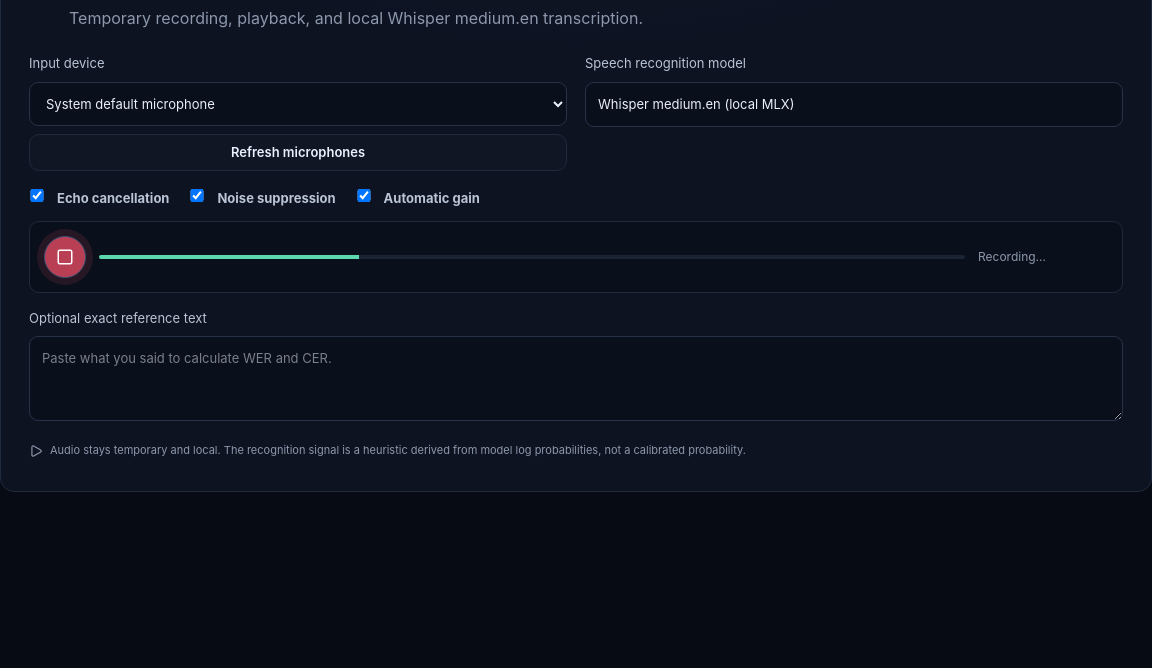
Test: MicrophoneDiagnostics › keeps a completed recording available for playback and model comparison
The width and height of the screenshot is (1152, 668).
Click the button named "Stop diagnostic recording" at (65, 256), box [44,236,86,278]
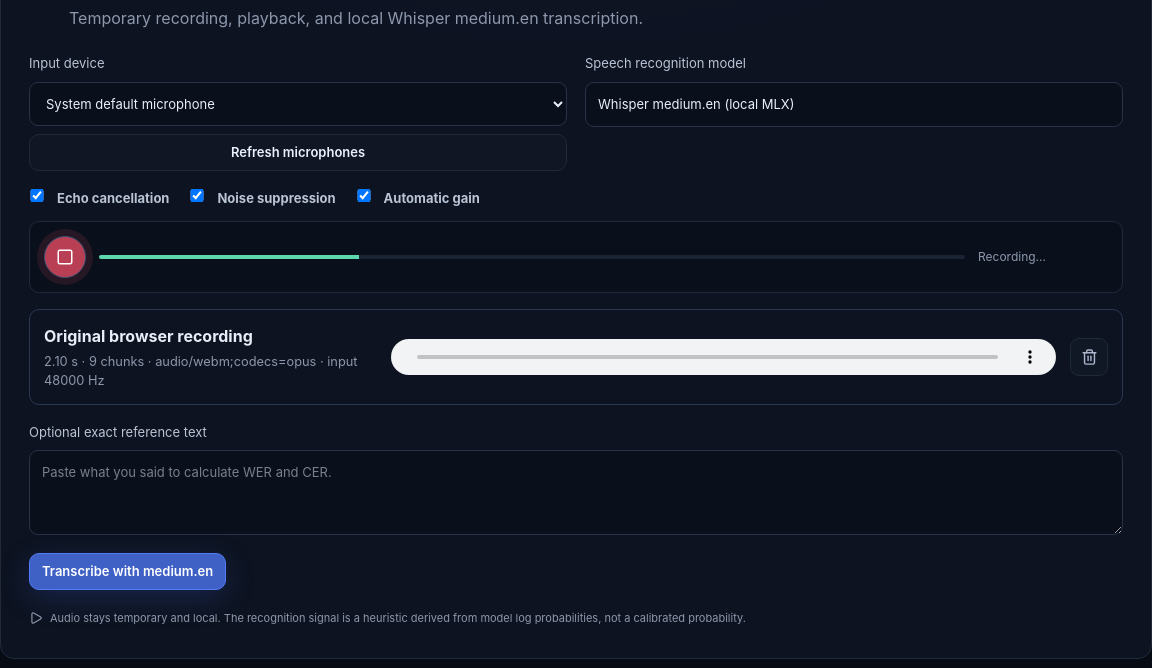
Expected: the element named "Playback original recording" is shown, [391,339,1056,375]
Expected: the text "2.10 s · 9 chunks · audio/webm;codecs=opus · input 48000 Hz" is shown, [44,352,377,390]
Type "Hello 123 123 mic testing." into the text box with placeholder "Paste what you said to calculate WER and CER." at (576, 493), box [29,450,1123,535]
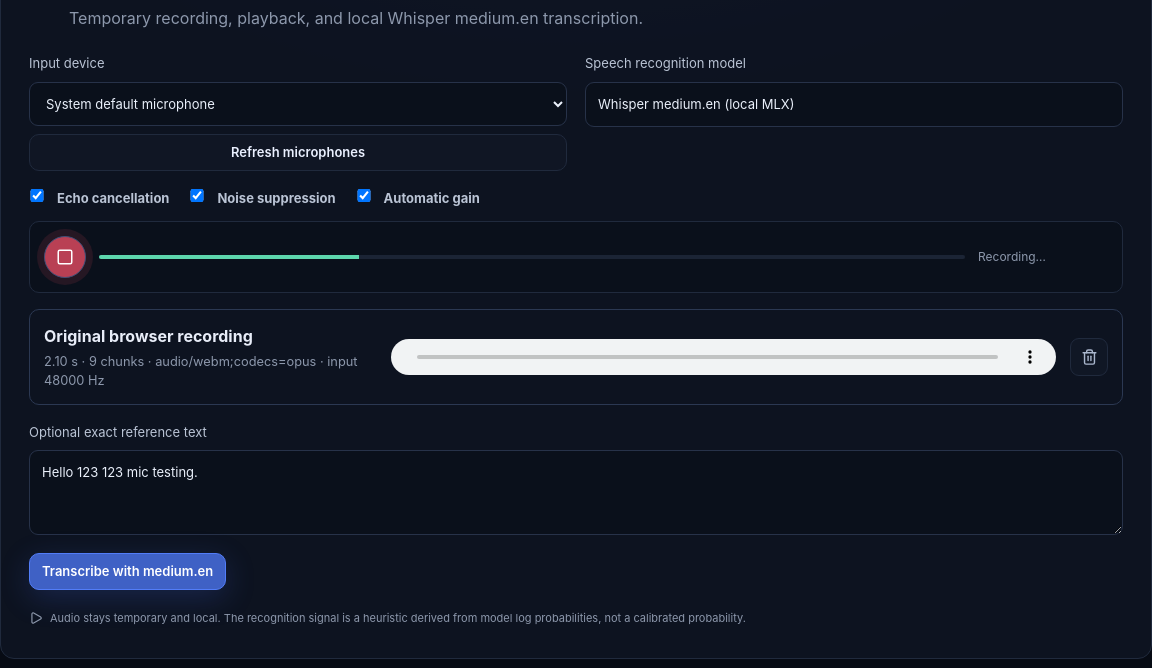
Click the button "Transcribe with medium.en" at (128, 572), box [29,553,226,590]
(page scrolled)
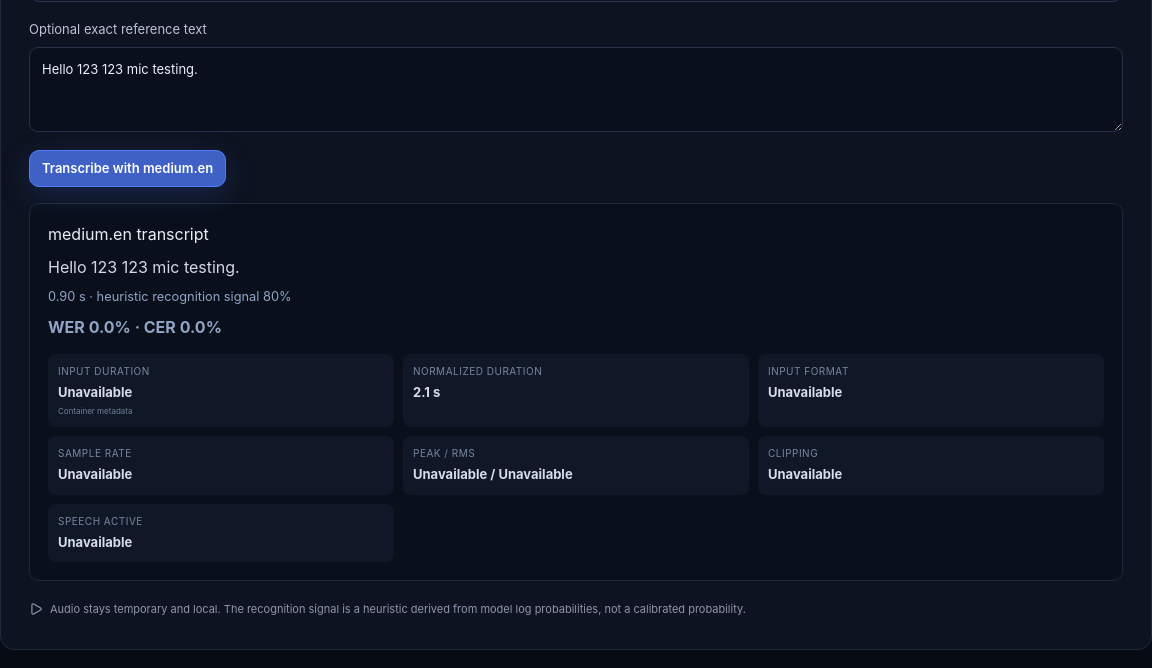
Expected: the text "WER 0.0% · CER 0.0%" is shown, [48,317,222,337]
